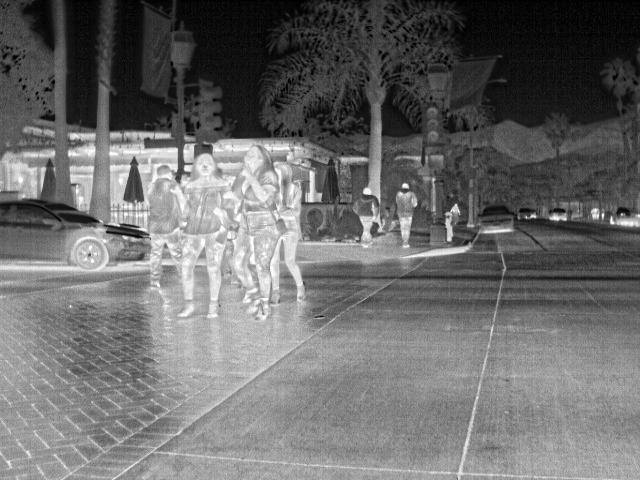car: (3, 196, 154, 272), (477, 204, 515, 236), (610, 207, 639, 230), (544, 209, 571, 221), (518, 207, 539, 222)
person: (172, 151, 237, 320), (231, 140, 287, 318), (268, 158, 310, 304), (145, 165, 190, 290), (352, 184, 386, 246), (396, 180, 420, 250), (448, 200, 462, 227)
